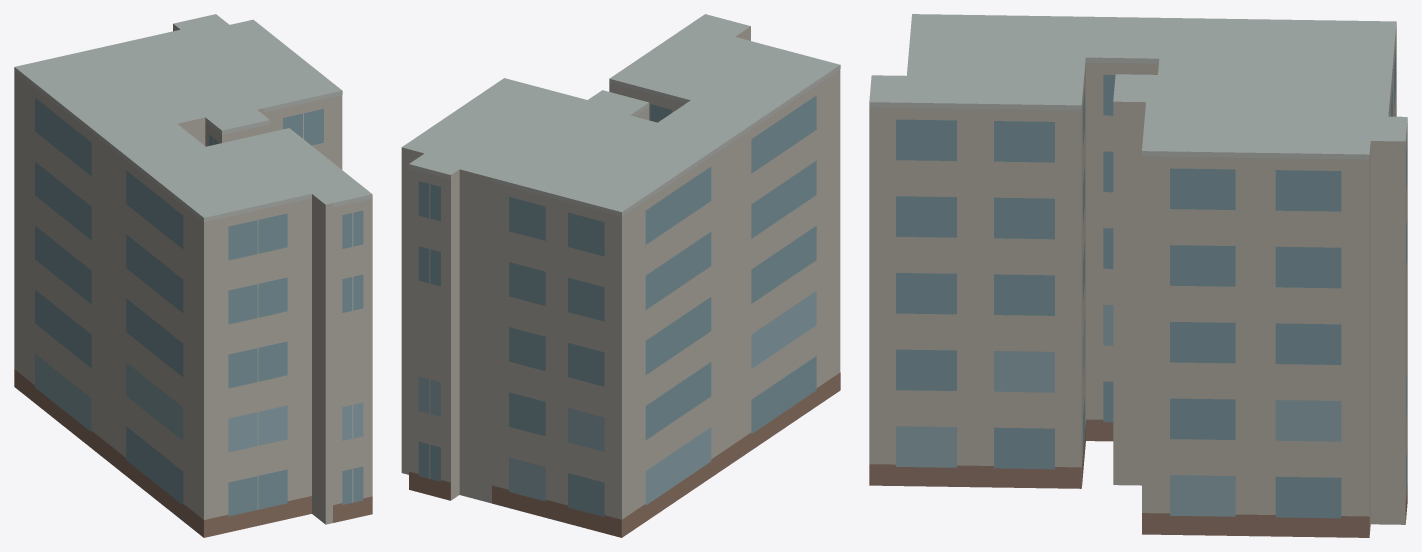
Rendered from survey-upis-32632498.glb.
3 renders of one model, left to right at view 1: azimuth 30°, elevation 25°; view 2: azimuth 150°, elevation 25°; view 3: azimuth 270°, elevation 25°, orthographic. The views are drawn at different scales.
Parts seen in each view (by area): view 1: survey-upis-32632498.tmp; view 2: survey-upis-32632498.tmp; view 3: survey-upis-32632498.tmp.
Part boxes in pixels (left/top/right/bottom): survey-upis-32632498.tmp: left=14, top=14, right=372, bottom=537; survey-upis-32632498.tmp: left=401, top=14, right=840, bottom=537; survey-upis-32632498.tmp: left=869, top=14, right=1407, bottom=537.
Size of the model in its own units: 14.31 by 18.2 by 23.17.
